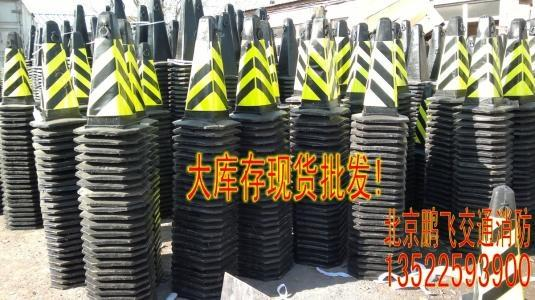cone_barrel: (81, 11, 138, 129), (176, 15, 233, 125), (33, 19, 81, 120), (356, 17, 403, 119), (230, 15, 277, 116), (296, 9, 339, 110), (461, 11, 504, 108), (501, 17, 534, 102), (1, 33, 33, 106)
